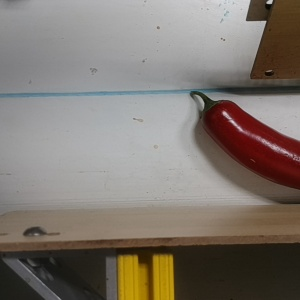Cut Point: (197, 92, 232, 130)
